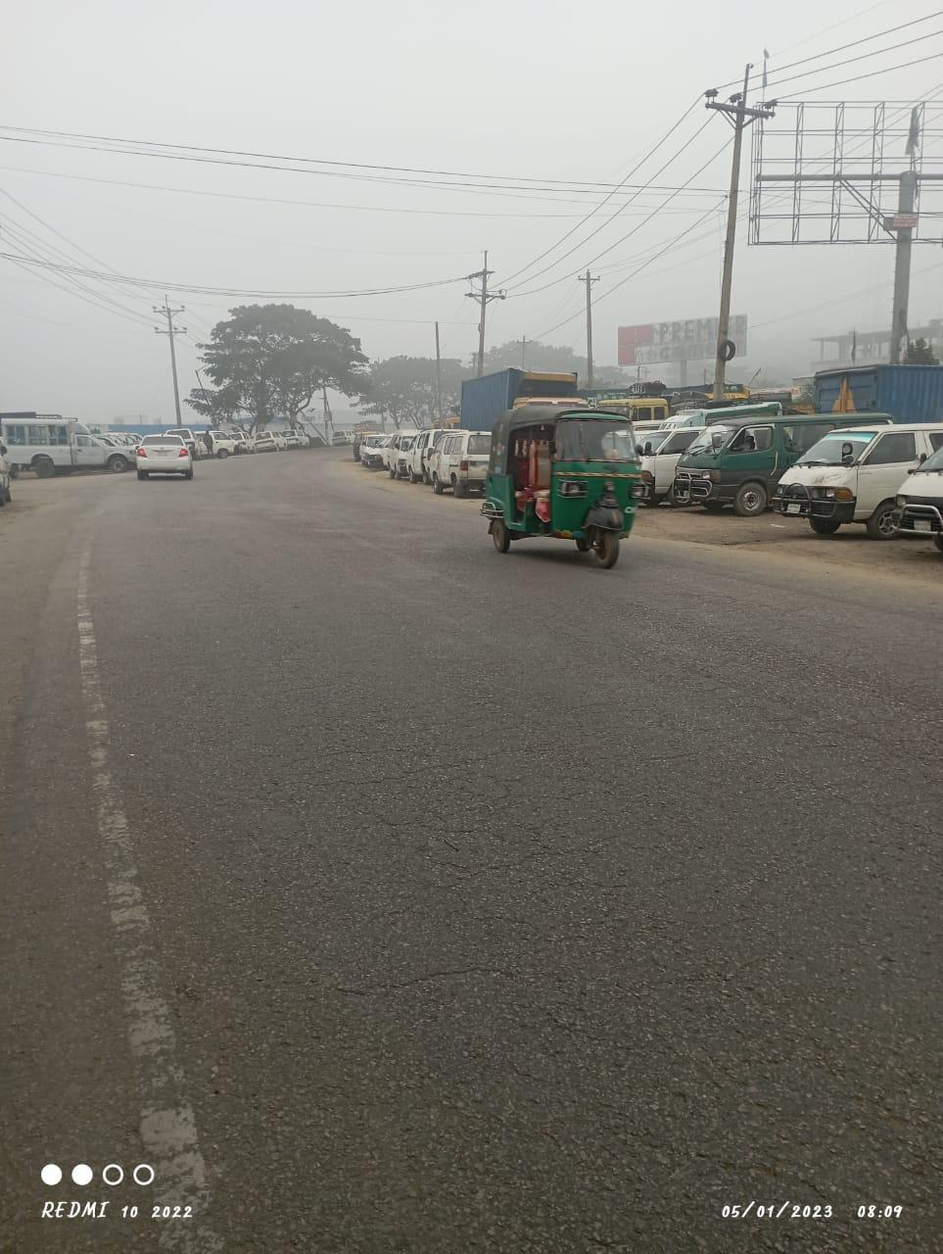Car: (675, 412, 901, 516), (768, 420, 943, 538), (1, 409, 142, 475), (419, 427, 495, 493), (131, 428, 200, 485)
Truck: (454, 362, 584, 440)
